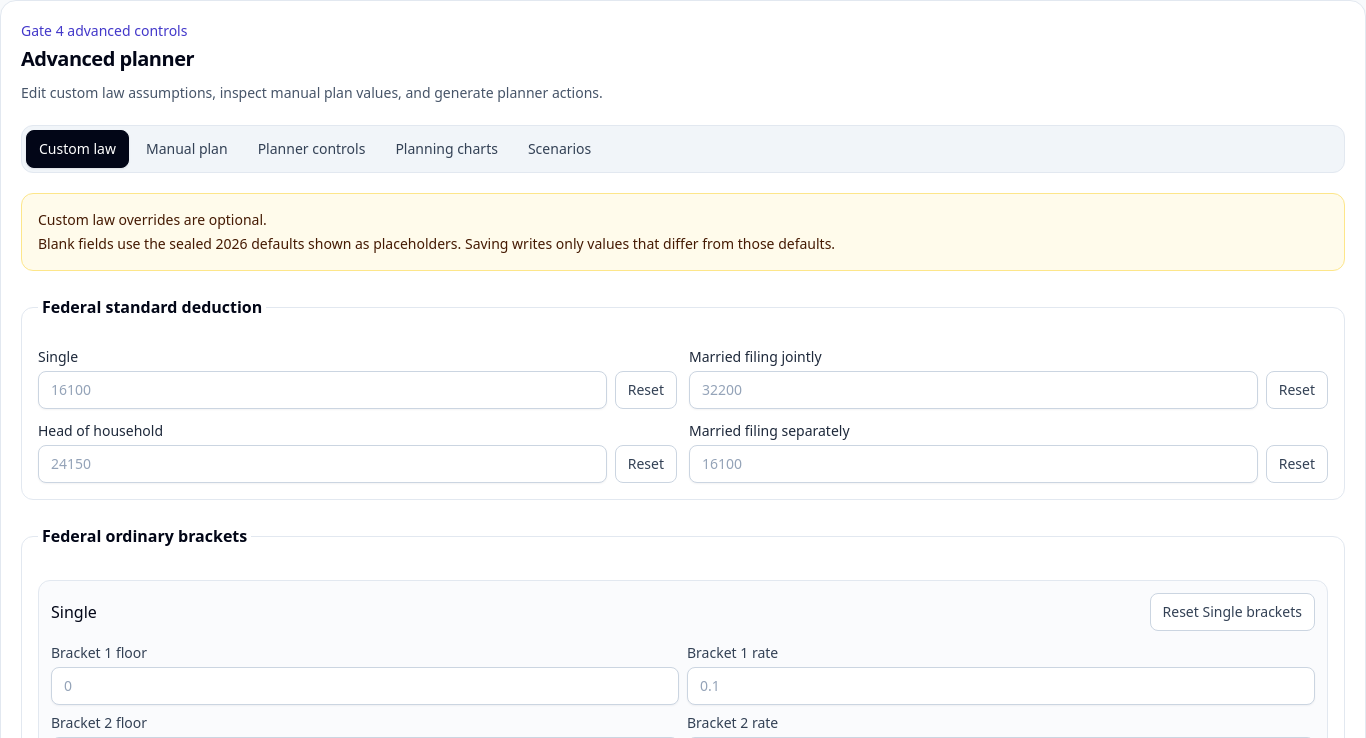
Test case: AdvancedView › renders the required advanced tabs in advanced mode
Expected: the heading "Advanced planner" is shown, [21, 45, 194, 72]
Expected: the tab "Planner controls" is shown, [245, 130, 378, 168]
Click the tab "Manual plan".
click(187, 149)  # box [133, 130, 241, 168]
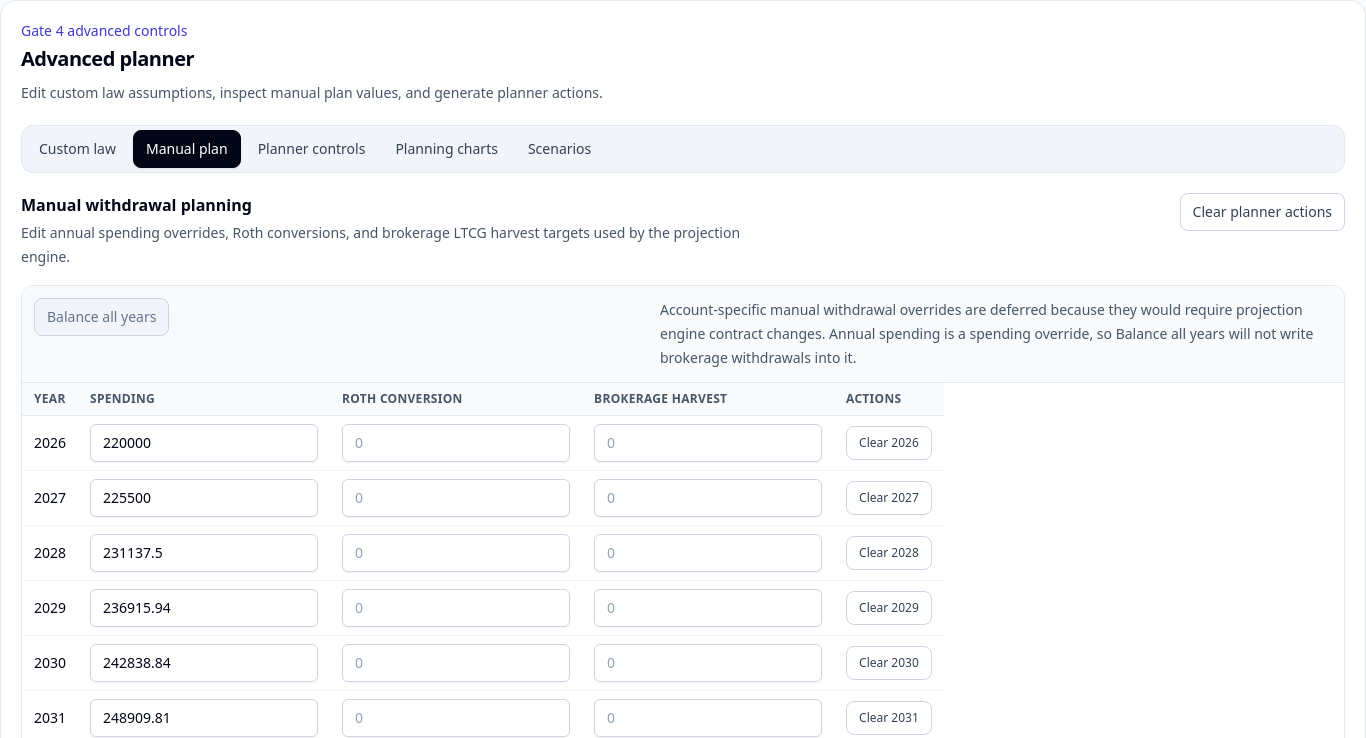
Result: the heading "Manual withdrawal planning" is shown at [21, 194, 252, 216]
Click the tab "Planner controls".
click(312, 149)  # box [245, 130, 378, 168]
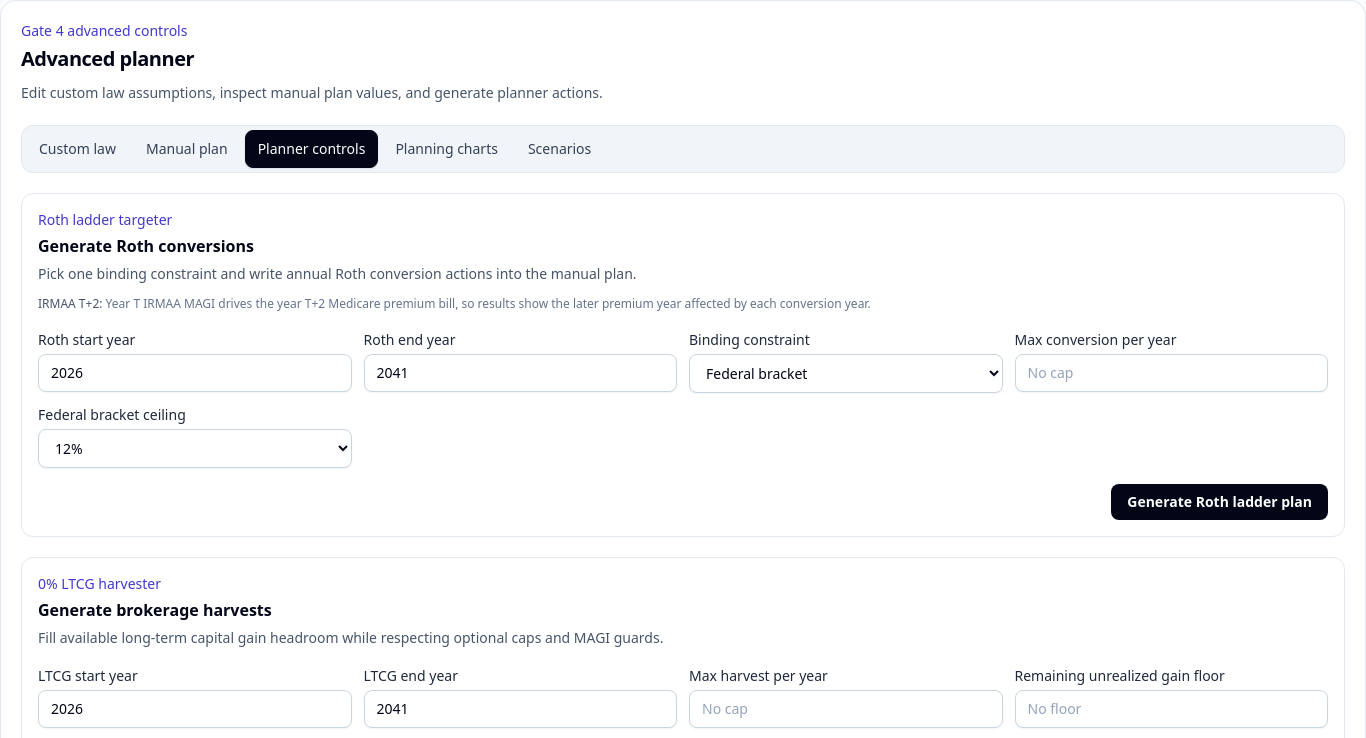
Result: the heading "Generate Roth conversions" is shown at [38, 235, 254, 257]
Result: the heading "Generate brokerage harvests" is shown at [38, 599, 272, 621]
Click the tab "Planning charts".
click(447, 149)  # box [382, 130, 511, 168]
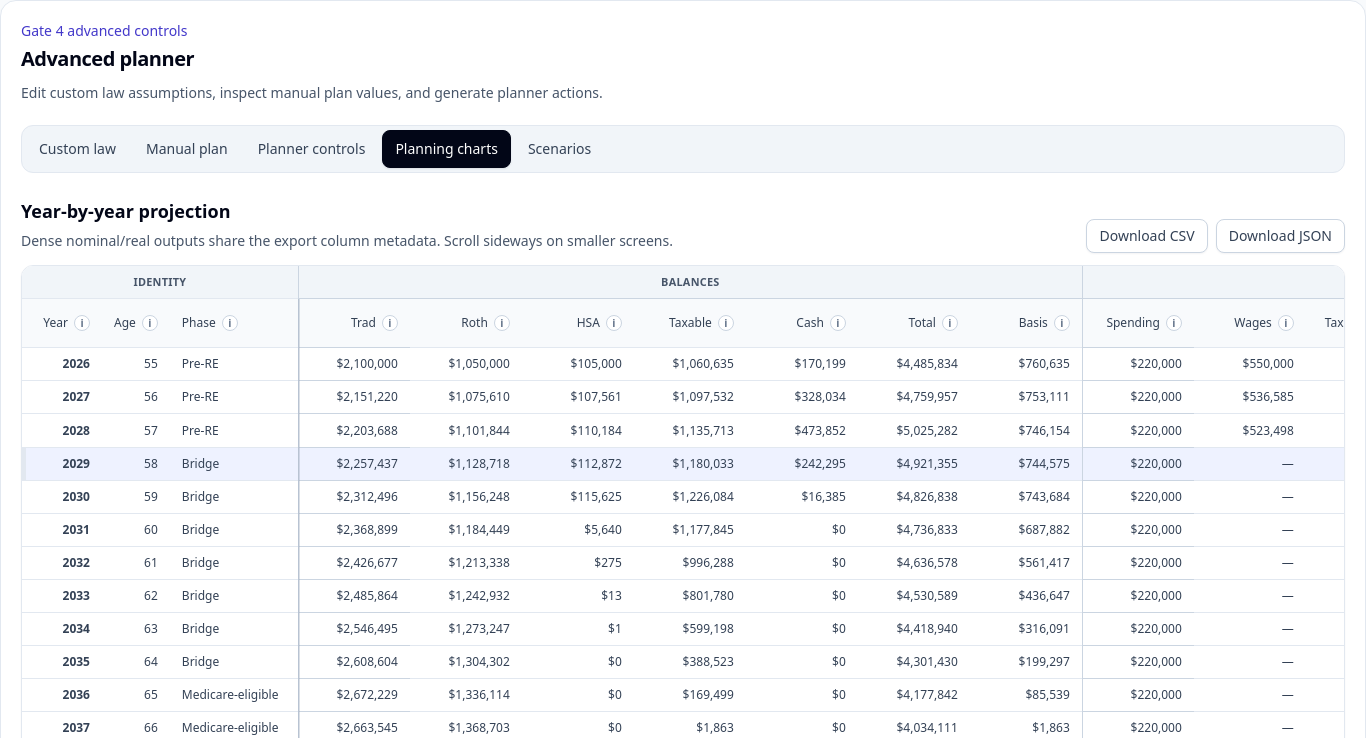
Result: the heading "Year-by-year projection" is shown at [21, 199, 230, 223]
Click the tab "Scenarios".
click(560, 149)  # box [515, 130, 604, 168]
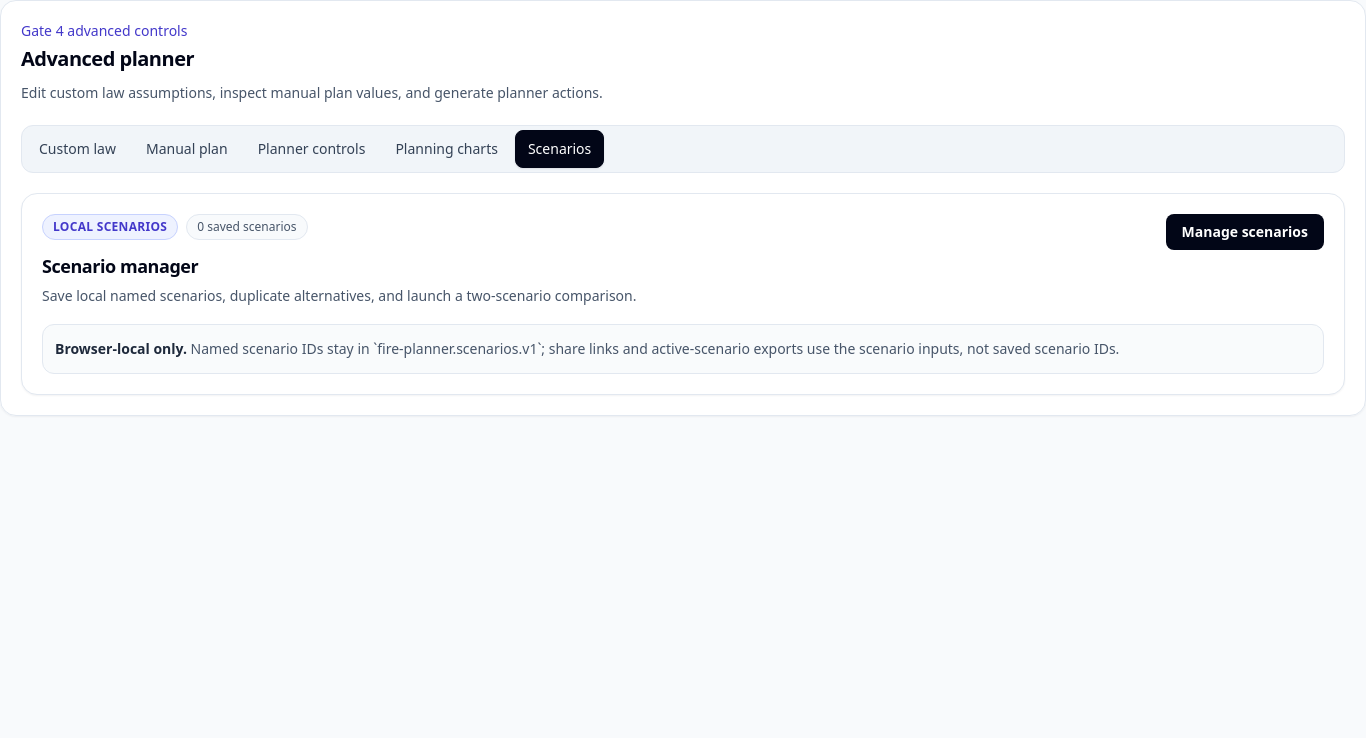
Result: the heading "Scenario manager" is shown at [42, 254, 198, 278]
